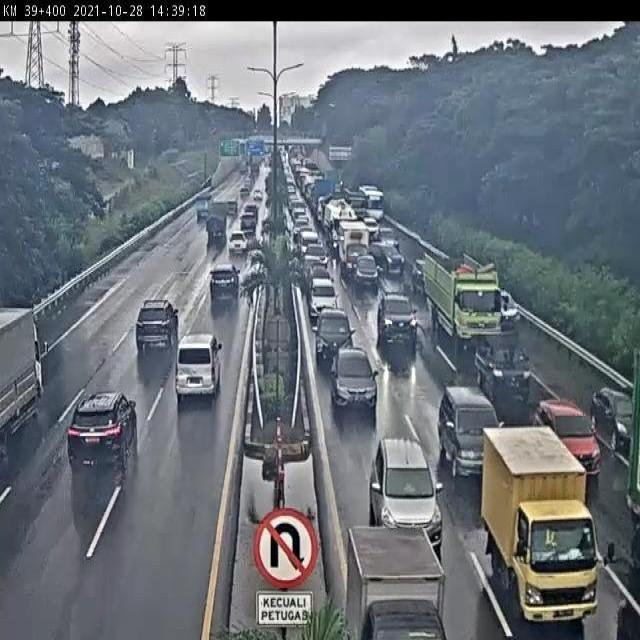car: (368, 432, 440, 543), (438, 384, 504, 479), (535, 396, 602, 475), (69, 392, 135, 464), (476, 329, 533, 400), (590, 386, 640, 446), (175, 335, 221, 400), (329, 342, 377, 402), (134, 299, 177, 352), (315, 306, 352, 362), (375, 289, 415, 340), (308, 276, 337, 321), (209, 263, 241, 300), (370, 242, 401, 270), (354, 255, 379, 285), (408, 255, 431, 285), (303, 253, 324, 280), (307, 264, 331, 285), (305, 244, 328, 265), (229, 229, 248, 252)
mid truck: (422, 251, 502, 348)
small truck: (484, 428, 600, 619), (340, 513, 436, 640), (340, 224, 370, 271)
